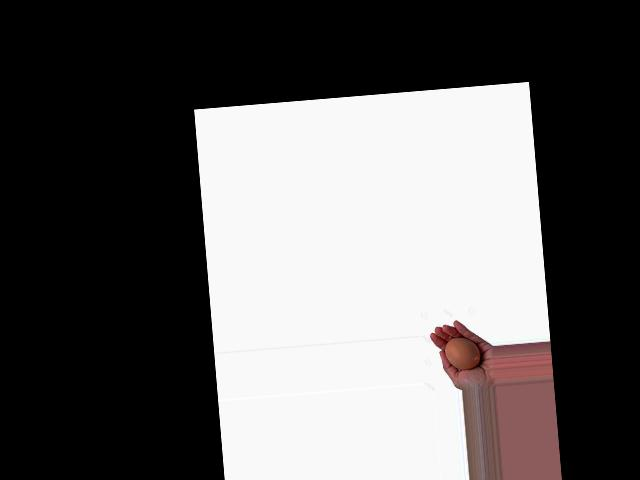egg: (444, 335, 481, 371)
